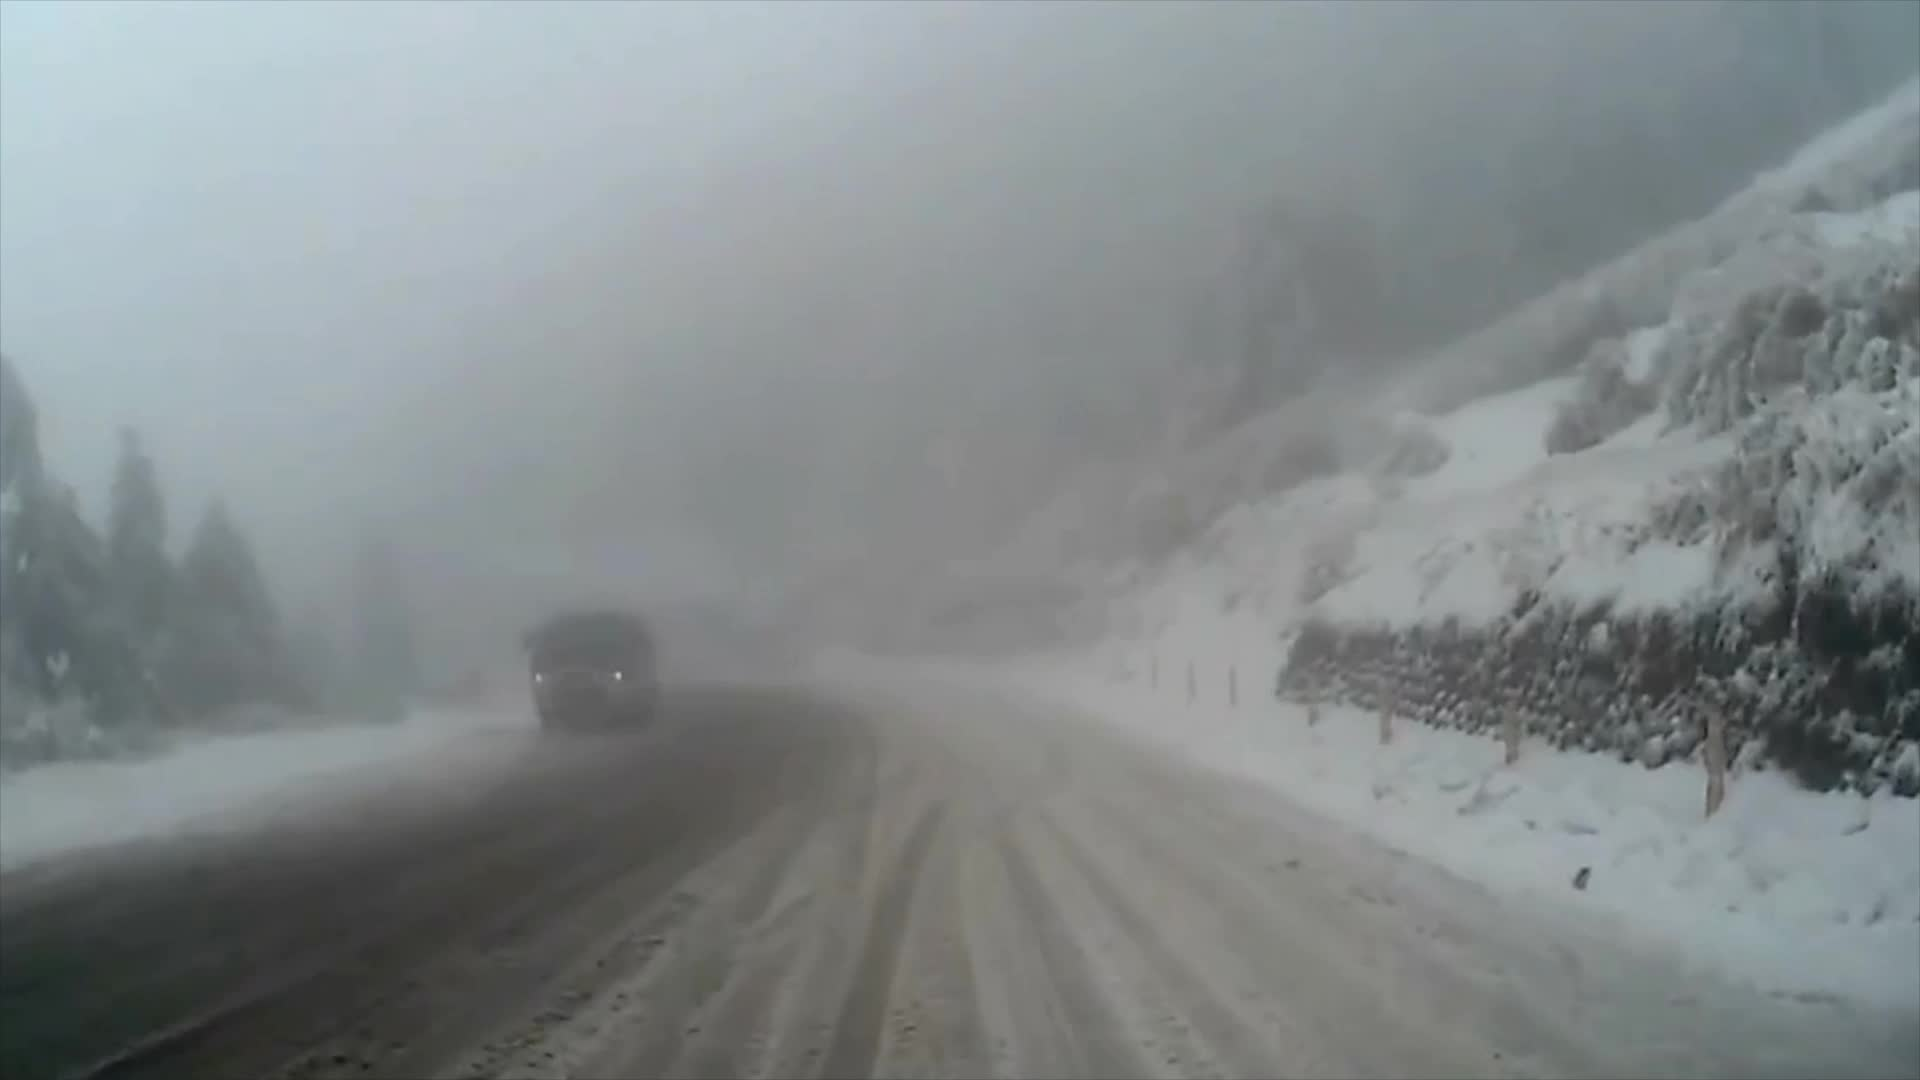vehicle: (522, 607, 659, 735)
